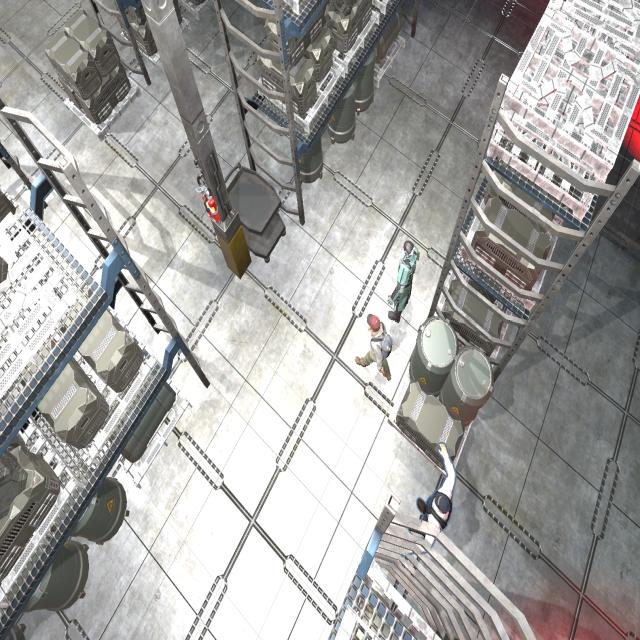thiefs: (353, 307, 396, 384)
